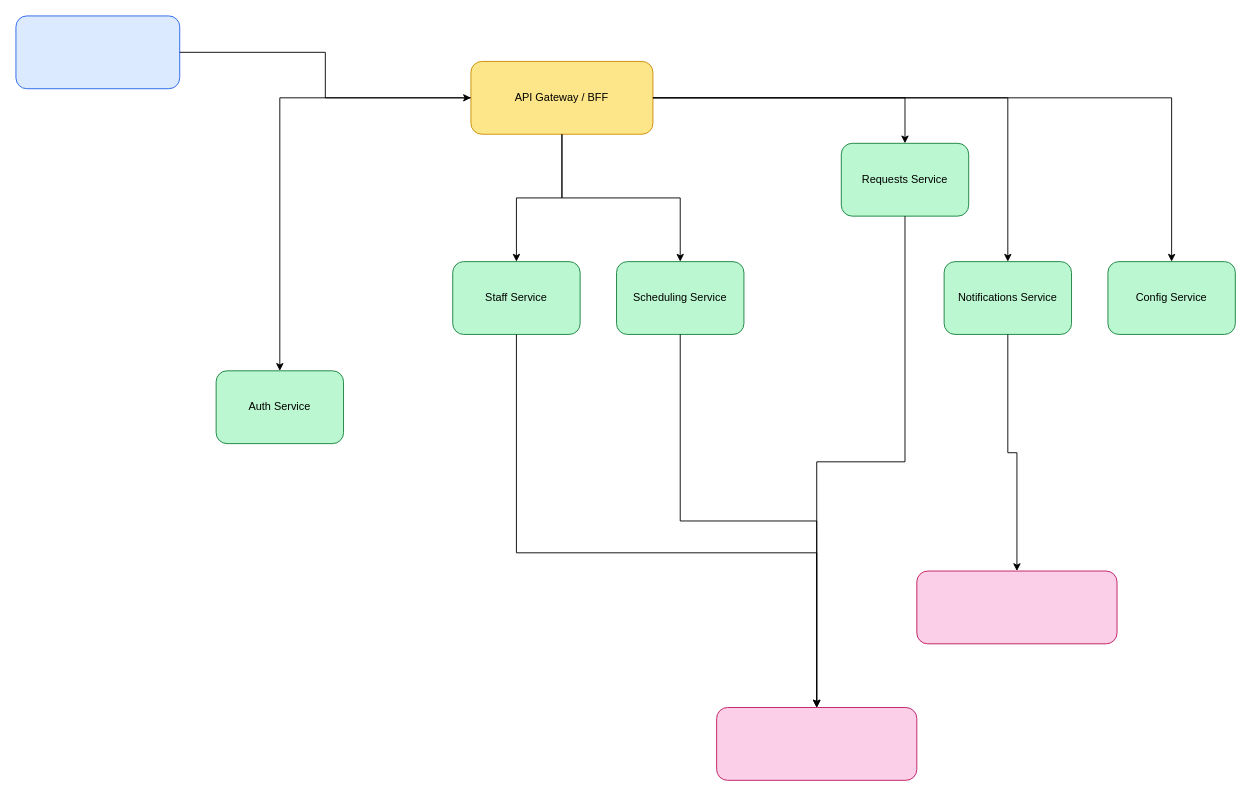
This 1251x796 diagram has some shape labels left out. The centre of each missing label's shape, as x and y in pixels:
"PostgreSQL" belongs at [816,743].
"React SPA" belongs at [97,52].
"Slack / Email" belongs at [1016,607].
